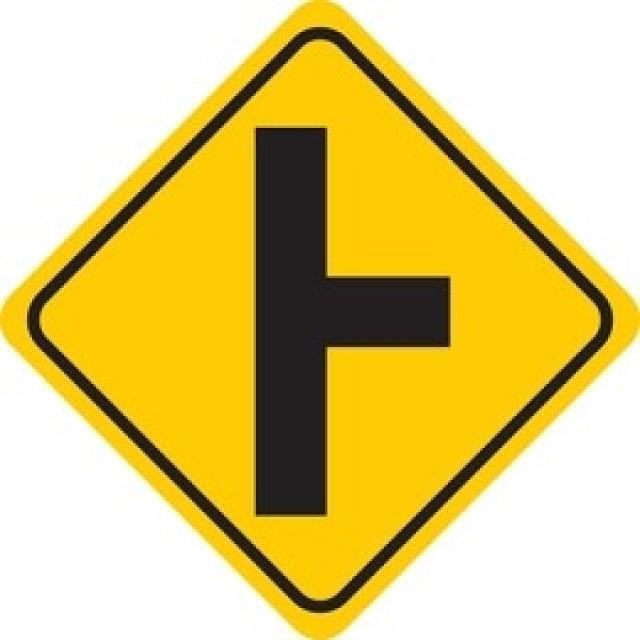side road right: (19, 22, 604, 618)
